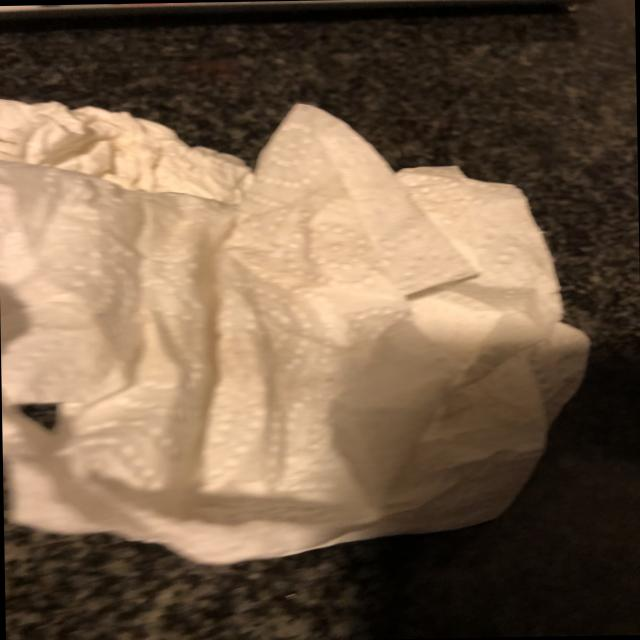organic waste: (0, 86, 596, 565), (0, 93, 257, 206)
